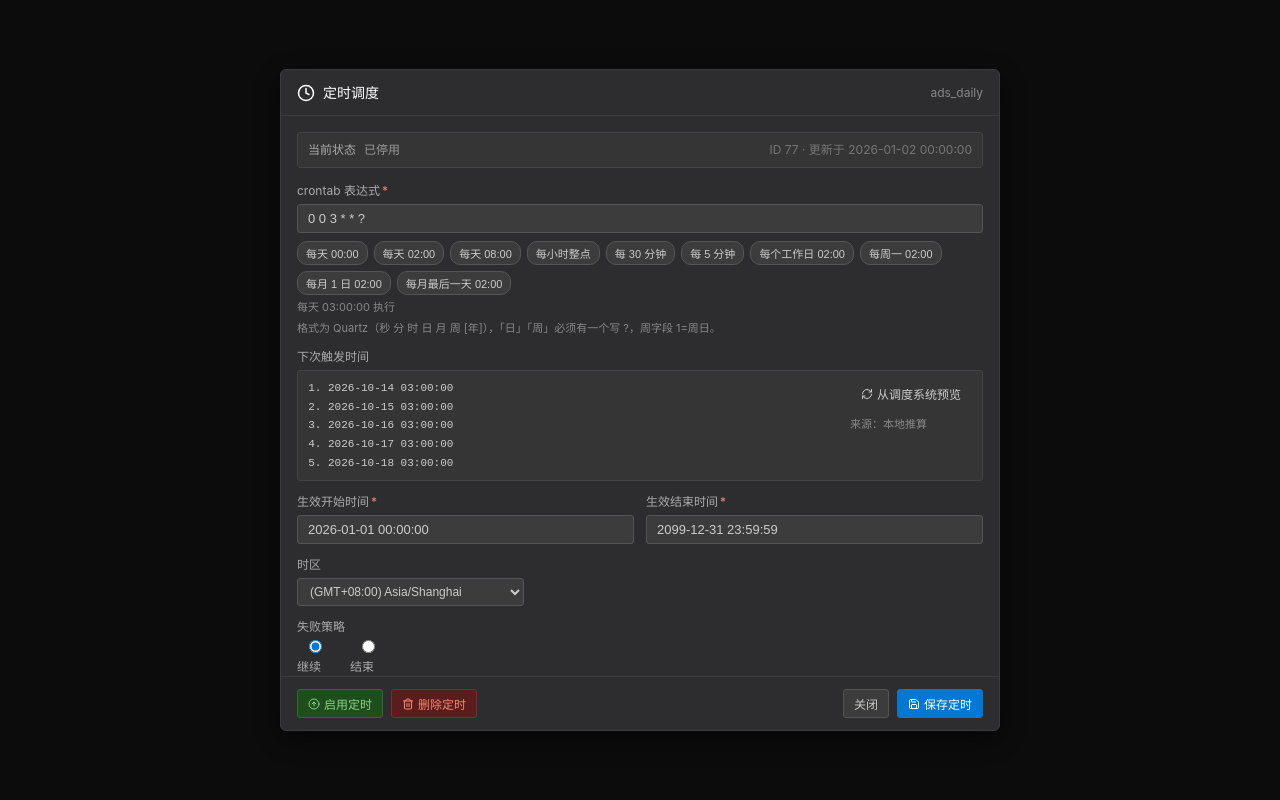
Test: 定时上下线与删除 › 工作流未上线时不允许启用定时，并给出原因
Expected: the text "已停用" is shown, [364, 141, 400, 159]
Click the button "启用定时": (340, 704) [297, 689, 383, 718]
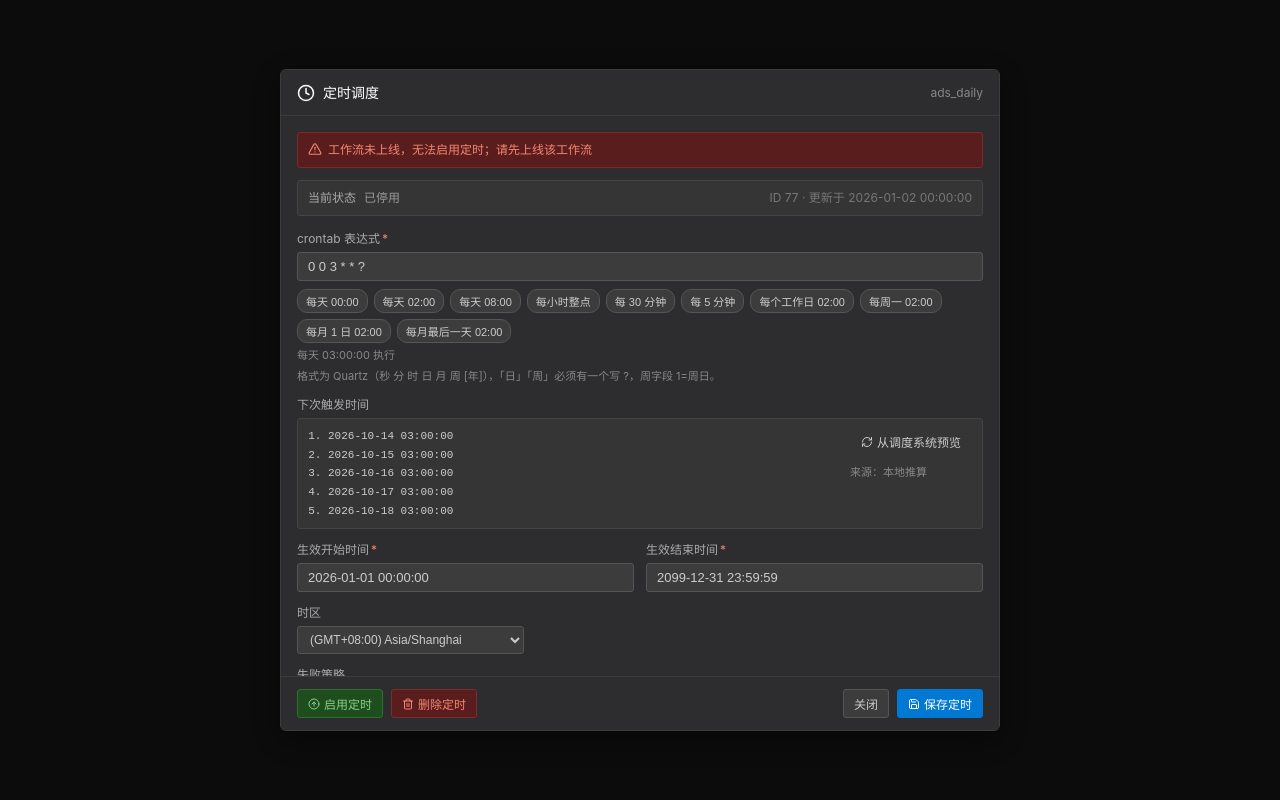
Expected: the text "工作流未上线，无法启用定时；请先上线该工作流" is shown, [328, 141, 592, 159]
